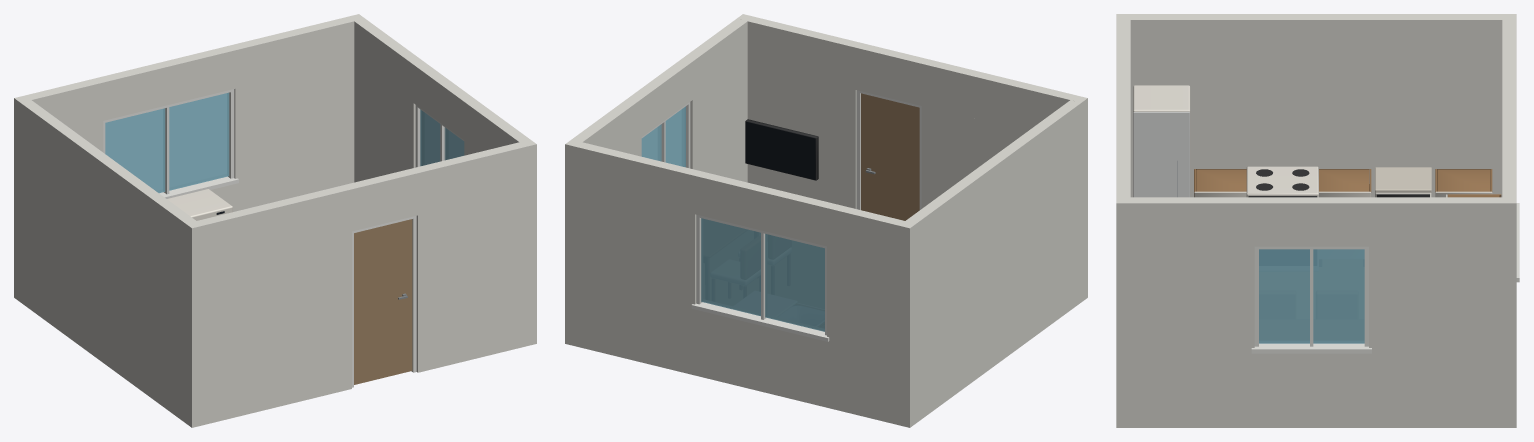
Rendered from oursv11b.glb.
3 renders of one model, left to right at view 1: azimuth 30°, elevation 25°; view 2: azimuth 150°, elevation 25°; view 3: azimuth 270°, elevation 25°, orthographic. The views are drawn at different scales.
Visible parts, largest first — view 1: wall|scenesmith_073__R00|0, wall|scenesmith_073__R00|2, wall|scenesmith_073__R00|1, wall|scenesmith_073__R00|3, wall|scenesmith_073__R00|0 Door 0 | wood leaf, wall|scenesmith_073__R00|1 Window 0 | glazing, wall|scenesmith_073__R00|1 Window 0 | jamb, wall|scenesmith_073__R00|3 Window 0 | glazing, wall|scenesmith_073__R00|0 Door 0 | jamb, Appliance enclosure, wall|scenesmith_073__R00|3 Window 0 | jamb; view 2: wall|scenesmith_073__R00|1, wall|scenesmith_073__R00|2, wall|scenesmith_073__R00|0, wall|scenesmith_073__R00|3, wall|scenesmith_073__R00|1 Window 0 | glazing, wall|scenesmith_073__R00|0 Door 0 | wood leaf, Dark appliance door, wall|scenesmith_073__R00|1 Window 0 | jamb, wall|scenesmith_073__R00|3 Window 0 | glazing, wall|scenesmith_073__R00|0 Door 0 | jamb, wall|scenesmith_073__R00|3 Window 0 | jamb, Appliance door; view 3: wall|scenesmith_073__R00|3, wall|scenesmith_073__R00|2, wall|scenesmith_073__R00|3 Window 0 | glazing, Freezer drawer, Appliance enclosure, Backrest, wall|scenesmith_073__R00|3 Window 0 | jamb, wall|scenesmith_073__R00|0, wall|scenesmith_073__R00|1, Stone worktop, Appliance door.
Part boxes in pixels (x1,y1,x2,y2): wall|scenesmith_073__R00|0: [186, 139, 536, 425]; wall|scenesmith_073__R00|2: [14, 95, 202, 427]; wall|scenesmith_073__R00|1: [14, 14, 364, 301]; wall|scenesmith_073__R00|3: [354, 18, 536, 346]; wall|scenesmith_073__R00|0 Door 0 | wood leaf: [354, 219, 412, 384]; wall|scenesmith_073__R00|1 Window 0 | glazing: [105, 92, 229, 193]; wall|scenesmith_073__R00|1 Window 0 | jamb: [103, 89, 238, 198]; wall|scenesmith_073__R00|3 Window 0 | glazing: [420, 109, 464, 166]; wall|scenesmith_073__R00|0 Door 0 | jamb: [352, 216, 416, 387]; Appliance enclosure: [167, 189, 232, 220]; wall|scenesmith_073__R00|3 Window 0 | jamb: [415, 105, 464, 167]; wall|scenesmith_073__R00|1: [565, 139, 916, 427]; wall|scenesmith_073__R00|2: [899, 98, 1087, 427]; wall|scenesmith_073__R00|0: [737, 14, 1087, 208]; wall|scenesmith_073__R00|3: [565, 18, 747, 346]; wall|scenesmith_073__R00|1 Window 0 | glazing: [701, 218, 824, 331]; wall|scenesmith_073__R00|0 Door 0 | wood leaf: [861, 93, 919, 220]; Dark appliance door: [745, 121, 815, 179]; wall|scenesmith_073__R00|1 Window 0 | jamb: [691, 214, 829, 341]; wall|scenesmith_073__R00|3 Window 0 | glazing: [641, 106, 685, 167]; wall|scenesmith_073__R00|0 Door 0 | jamb: [856, 90, 921, 209]; wall|scenesmith_073__R00|3 Window 0 | jamb: [641, 102, 690, 168]; Appliance door: [745, 119, 818, 180]; wall|scenesmith_073__R00|3: [1116, 197, 1516, 427]; wall|scenesmith_073__R00|2: [1130, 14, 1516, 197]; wall|scenesmith_073__R00|3 Window 0 | glazing: [1259, 249, 1364, 343]; Freezer drawer: [1133, 112, 1189, 197]; Appliance enclosure: [1133, 85, 1492, 197]; Backrest: [1194, 169, 1501, 197]; wall|scenesmith_073__R00|3 Window 0 | jamb: [1251, 246, 1371, 353]; wall|scenesmith_073__R00|0: [1116, 14, 1130, 203]; wall|scenesmith_073__R00|1: [1502, 20, 1516, 203]; Stone worktop: [1375, 167, 1431, 192]; Appliance door: [1248, 169, 1429, 197].
Size of the model in its own units: 4.73 by 2.61 by 4.23.
